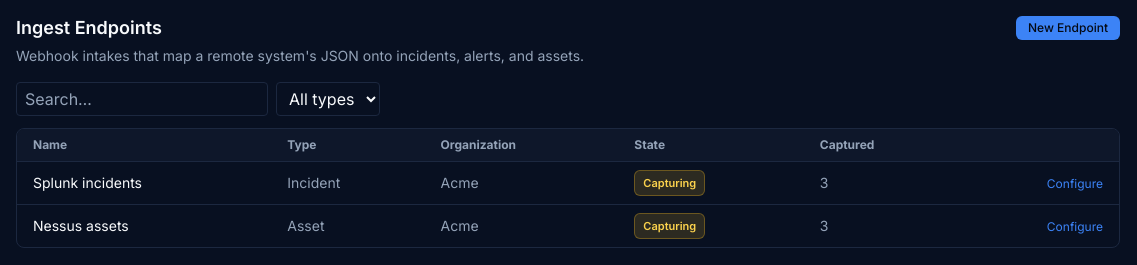
Test: IngestEndpoints › filters by target type
The image size is (1137, 265).
Expected: the text "Splunk incidents" is shown, [17, 162, 271, 204]
Select "Asset" in the dropdown named "Target filter" at (328, 99), box [276, 82, 380, 116]
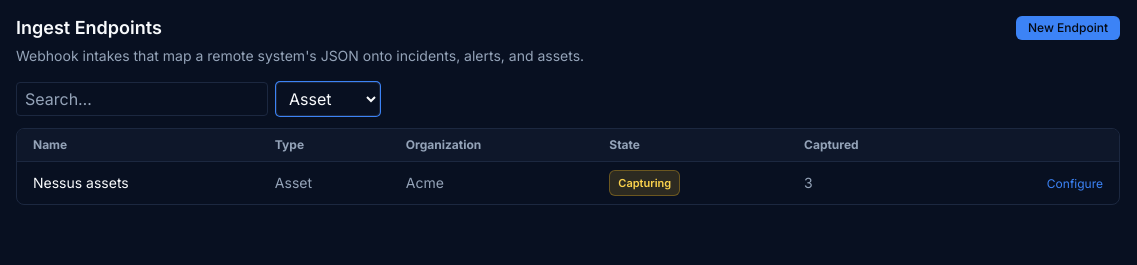
Expected: the text "Nessus assets" is shown, [17, 162, 259, 204]
Expected: the text "Splunk incidents" is gone
